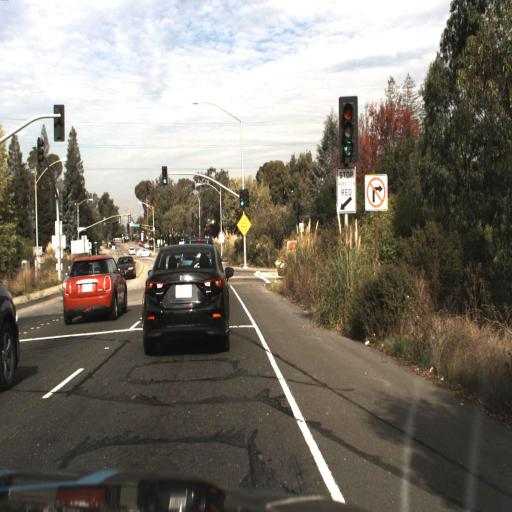car: (133, 222, 242, 377), (50, 240, 132, 335), (0, 238, 26, 414)
trafficLight-Green: (332, 73, 370, 189), (156, 158, 171, 193), (236, 180, 249, 216)
